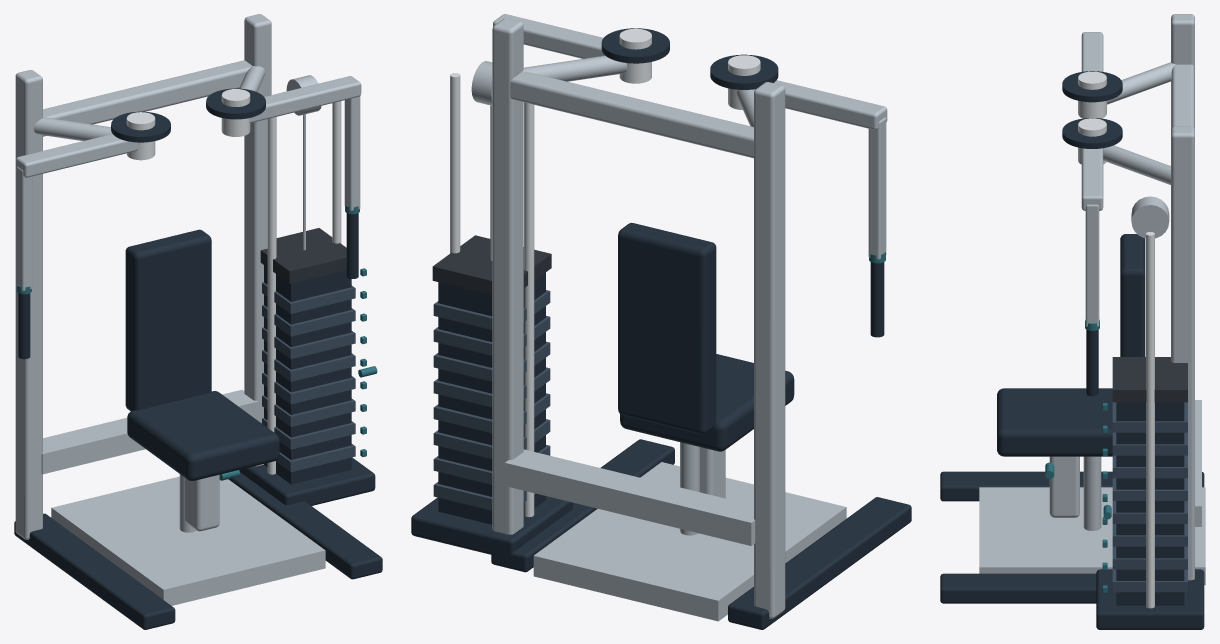
File: pec_fly.glb
3 renders of one model, left to right at view 1: azimuth 30°, elevation 25°; view 2: azimuth 150°, elevation 25°; view 3: azimuth 270°, elevation 25°, orthographic. The views are drawn at different scales.
Parts seen in each view (by area): view 1: base, back, Lupright, seat, weightPlate (×8), stack, Rupright, LfloorFoot, overheadBridge, swingBeam (×2), guide (×2), RfloorFoot (+10 smaller); view 2: base, back, Lupright, Rupright, pivotBridge, weightPlate (×8), stack, overheadBridge, LfloorFoot, guide (×2), swingBeam (×2), seat (+12 smaller); view 3: base, seat, weightPlate (×8), Rupright, stack, RfloorFoot, stackBase, guide, back, stackLift, LfloorFoot, resistanceCam (×2) (+13 smaller).
Part boxes in pixels (x1,y1,x2,y2): base: [51, 476, 325, 605]; back: [125, 229, 211, 411]; Lupright: [15, 70, 42, 539]; seat: [127, 391, 279, 480]; weightPlate (×8): [262, 282, 355, 472]; stack: [264, 265, 351, 484]; Rupright: [244, 14, 271, 466]; LfloorFoot: [14, 513, 175, 629]; overheadBridge: [42, 60, 251, 136]; swingBeam (×2): [16, 76, 361, 177]; guide (×2): [267, 101, 341, 474]; RfloorFoot: [228, 472, 382, 579]; base: [533, 462, 846, 621]; back: [618, 222, 716, 434]; Lupright: [754, 82, 785, 618]; Rupright: [492, 18, 523, 534]; pivotBridge: [505, 449, 755, 545]; weightPlate (×8): [433, 290, 550, 510]; stack: [438, 272, 545, 524]; overheadBridge: [510, 71, 754, 158]; LfloorFoot: [728, 497, 911, 629]; guide (×2): [450, 73, 534, 517]; swingBeam (×2): [493, 14, 887, 129]; seat: [620, 354, 794, 451]; base: [979, 487, 1205, 585]; seat: [997, 388, 1112, 456]; weightPlate (×8): [1112, 402, 1187, 592]; Rupright: [1171, 126, 1194, 580]; stack: [1116, 402, 1184, 605]; RfloorFoot: [940, 573, 1096, 603]; stackBase: [1096, 569, 1204, 629]; guide: [1146, 232, 1154, 608]; back: [1120, 234, 1145, 356]; stackLift: [1112, 357, 1187, 402]; LfloorFoot: [940, 471, 1204, 501]; resistanceCam (×2): [1062, 71, 1122, 148].
Size of the model in its own units: 1.69 by 2.07 by 1.05.
